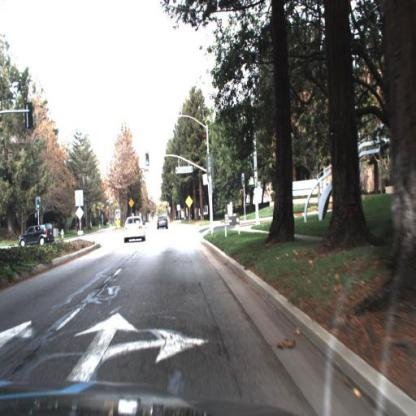car: (19, 223, 56, 253), (125, 214, 148, 246), (157, 214, 170, 232)
trafficLight-Green: (145, 152, 151, 170)
